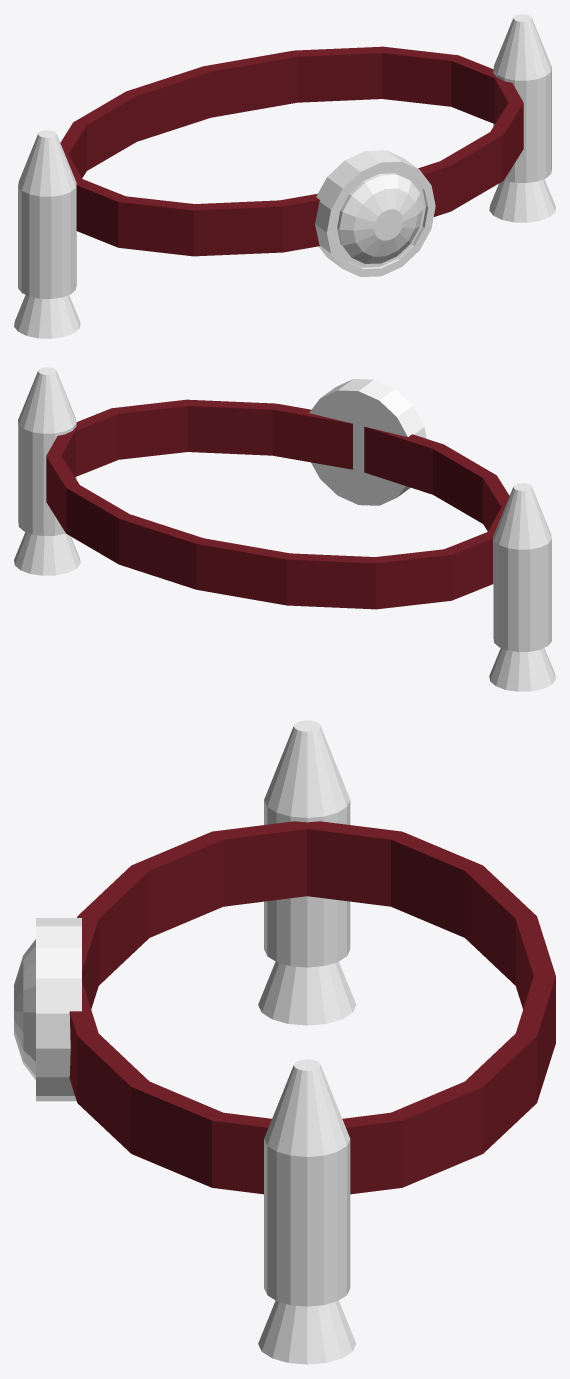
The model's file is double_jump_belt.glb.
The picture shows the model from 3 angles, top to bottom: view 1: azimuth 30°, elevation 25°; view 2: azimuth 150°, elevation 25°; view 3: azimuth 270°, elevation 25°; orthographic projection. The views are drawn at different scales.
Visible parts, largest first — view 1: Cylinder; view 2: Cylinder; view 3: Cylinder.
Part boxes in pixels (x1,y1,x2,y2): Cylinder: (14,14,555,338); Cylinder: (14,367,555,691); Cylinder: (14,720,555,1364).
Size of the model in its own units: 1.22 by 0.4153 by 0.7318.
